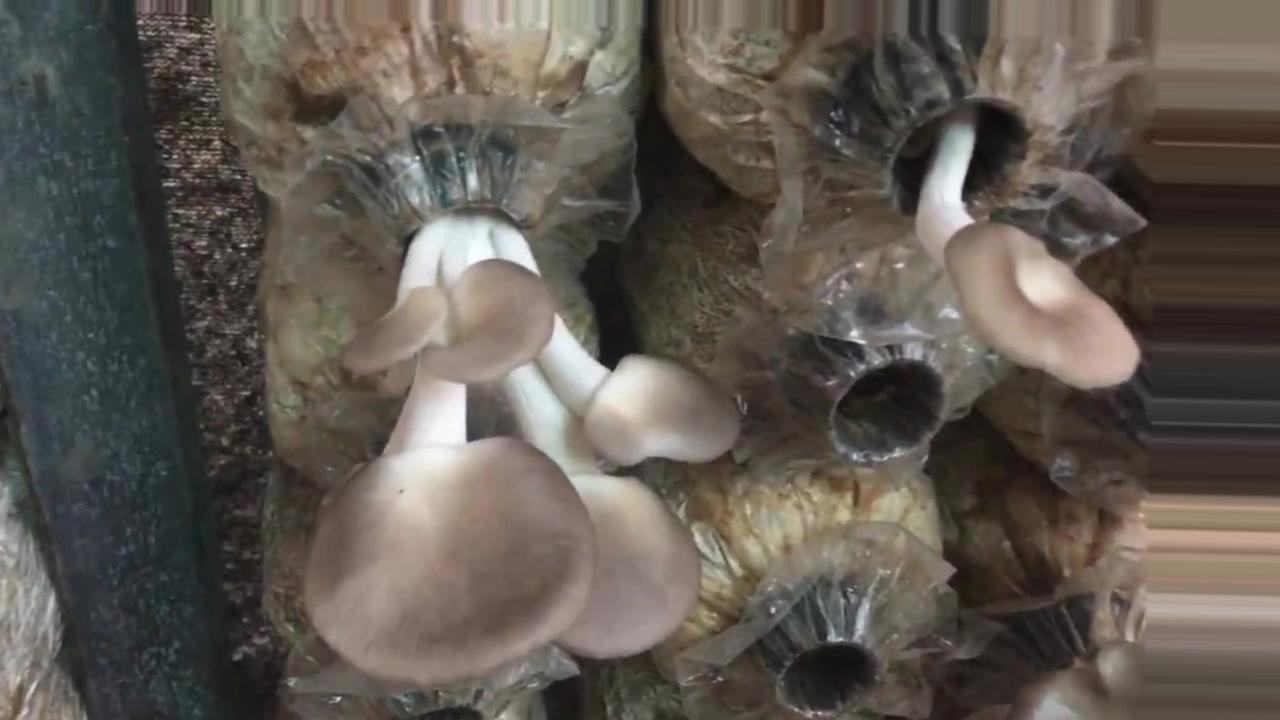nam: (303, 153, 735, 678), (877, 46, 1139, 389)
